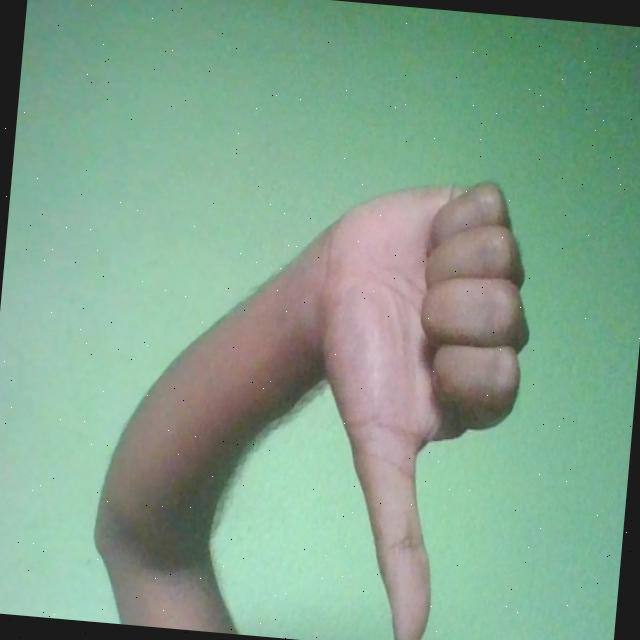Dislike: (280, 167, 542, 640)
